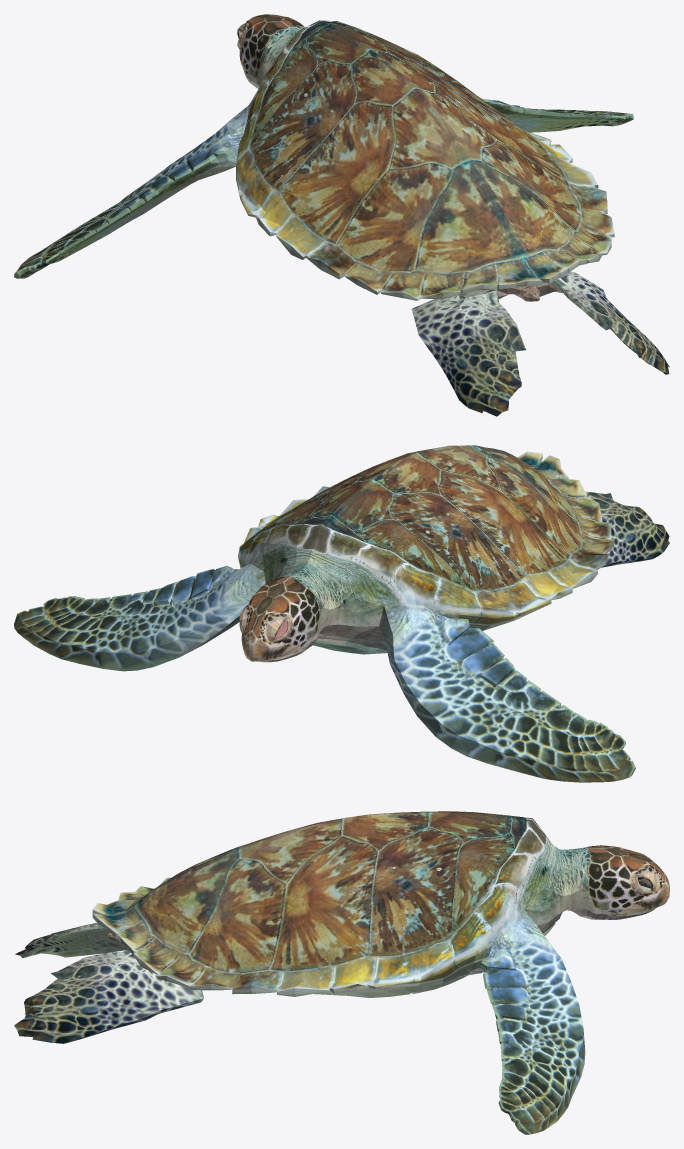
The model's file is frame_9.obj.
The picture shows the model from 3 angles, top to bottom: view 1: azimuth 30°, elevation 25°; view 2: azimuth 150°, elevation 25°; view 3: azimuth 270°, elevation 25°; orthographic projection. The views are drawn at different scales.
Visible parts, largest first — view 1: Turtle GEO Turtle; view 2: Turtle GEO Turtle; view 3: Turtle GEO Turtle.
Part boxes in pixels (x1=…): Turtle GEO Turtle: x1=14, y1=14, x2=669, y2=416; Turtle GEO Turtle: x1=14, y1=445, x2=669, y2=782; Turtle GEO Turtle: x1=14, y1=811, x2=669, y2=1134.
Bounding box in the file's own units: 104 × 31.57 × 99.18.
1 material, 1 textured.
